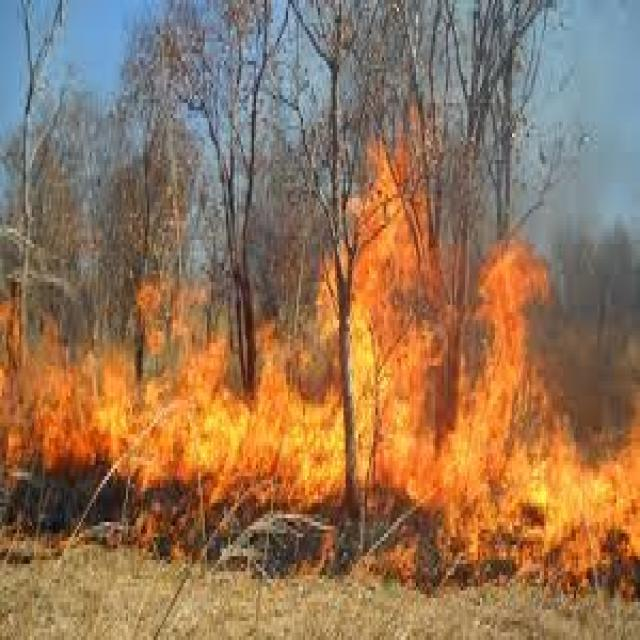Fire: (257, 265, 546, 507), (1, 292, 253, 498), (548, 422, 640, 574)
Smoke: (554, 58, 632, 400)
